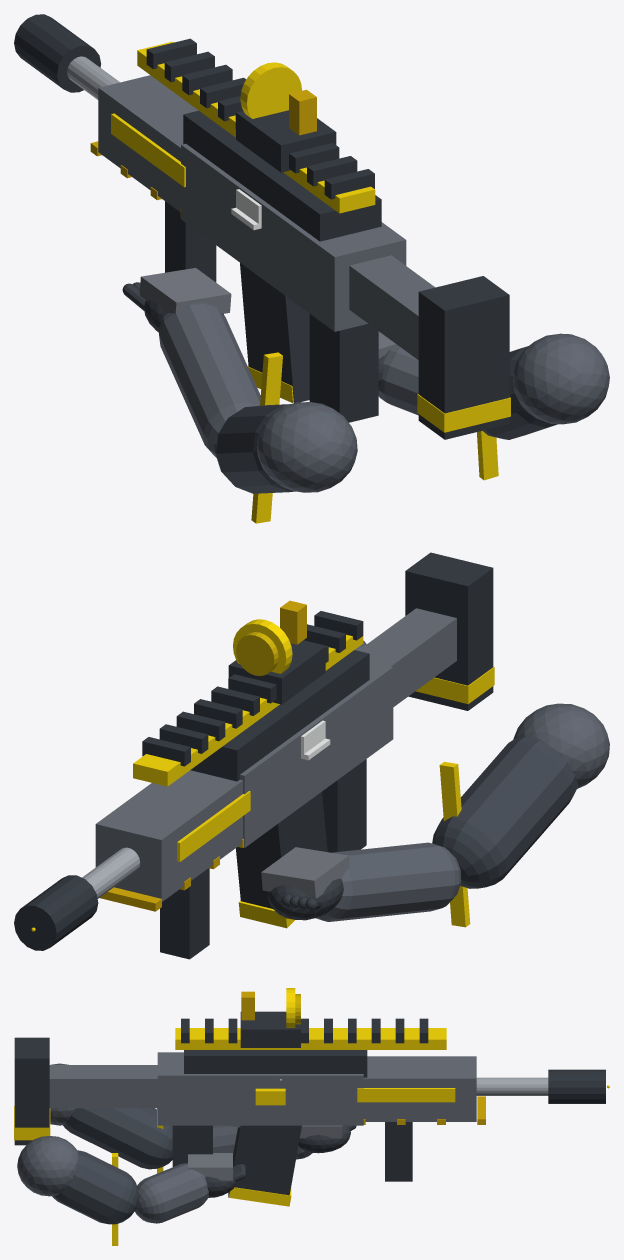
File: alexia-first-person-cp47-v1.glb
3 renders of one model, top to bottom at view 1: azimuth 30°, elevation 25°; view 2: azimuth 150°, elevation 25°; view 3: azimuth 270°, elevation 25°, orthographic. The views are drawn at different scales.
Visible parts, largest first — view 1: CP47, LeftArm, RightArm, Sight, Magazine; view 2: CP47, LeftArm, Sight, Magazine; view 3: CP47, RightArm, LeftArm, Magazine, Sight.
Part boxes in pixels (x1=…): CP47: x1=14, y1=14, x2=510, y2=439; LeftArm: x1=122, y1=268, x2=357, y2=523; RightArm: x1=378, y1=331, x2=609, y2=480; Sight: x1=236, y1=62, x2=336, y2=172; Magazine: x1=240, y1=263, x2=309, y2=403; CP47: x1=14, y1=552, x2=494, y2=959; LeftArm: x1=261, y1=703, x2=609, y2=927; Sight: x1=228, y1=600, x2=325, y2=704; Magazine: x1=236, y1=792, x2=327, y2=928; CP47: x1=14, y1=1018, x2=605, y2=1181; RightArm: x1=17, y1=1136, x2=245, y2=1245; LeftArm: x1=50, y1=1063, x2=356, y2=1173; Magazine: x1=228, y1=1125, x2=301, y2=1206; Sight: x1=240, y1=988, x2=300, y2=1047.
Bounding box in the file's own units: 1.02 × 1.06 × 2.37.
7 materials, 4 textured.
